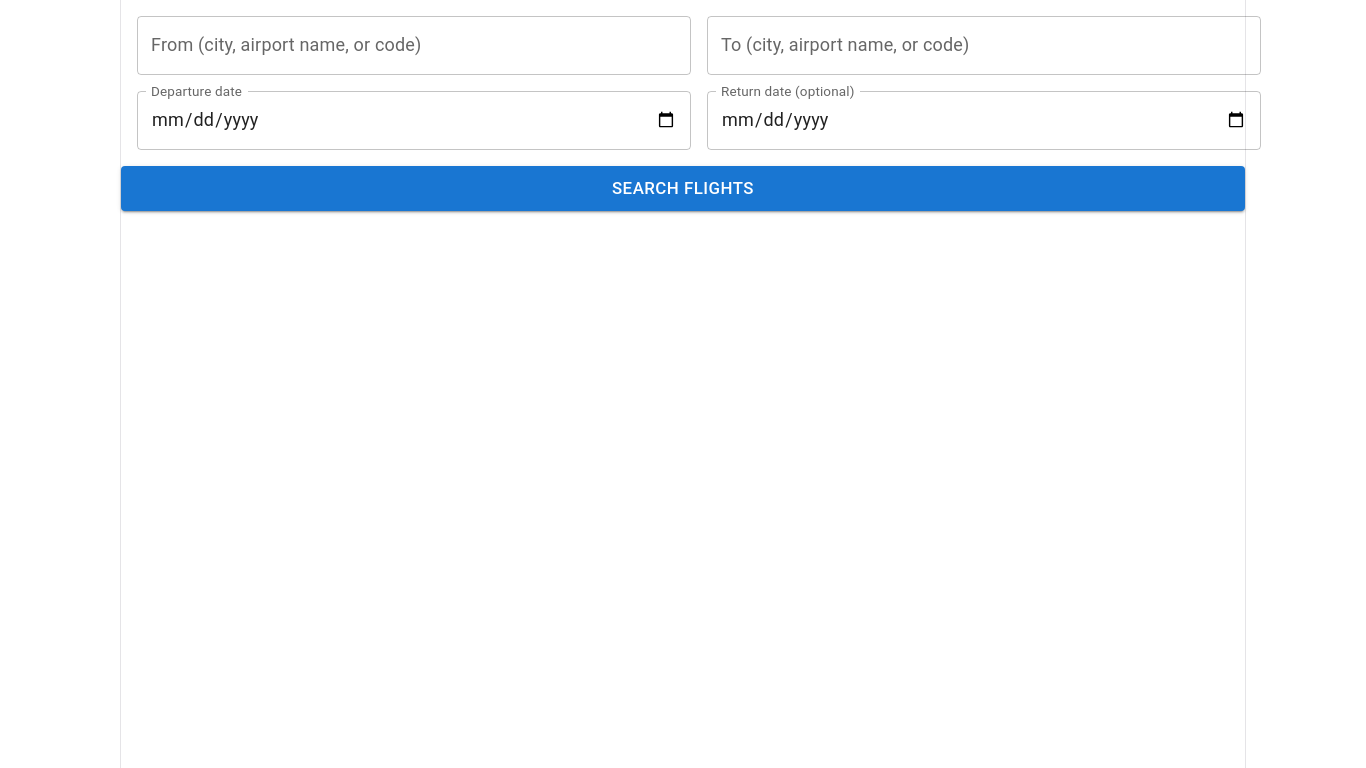
Test: SearchForm › rejects when source and destination are the same
Type "JFK" into the field labelled "From (city, airport name, or code)".
click(414, 45); type("JFK")  # box [137,16,691,75]
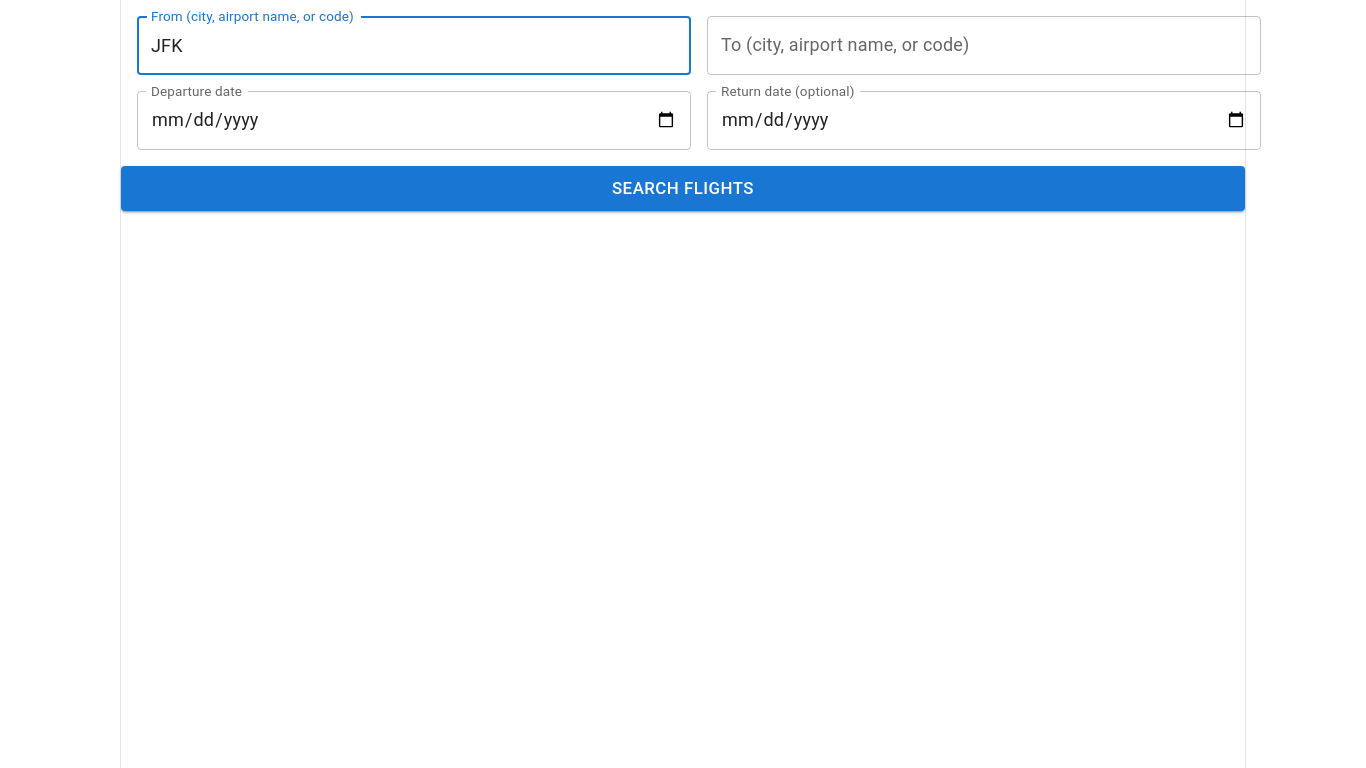
Type "JFK" into the field labelled "To (city, airport name, or code)".
click(984, 45); type("JFK")  # box [707,16,1261,75]
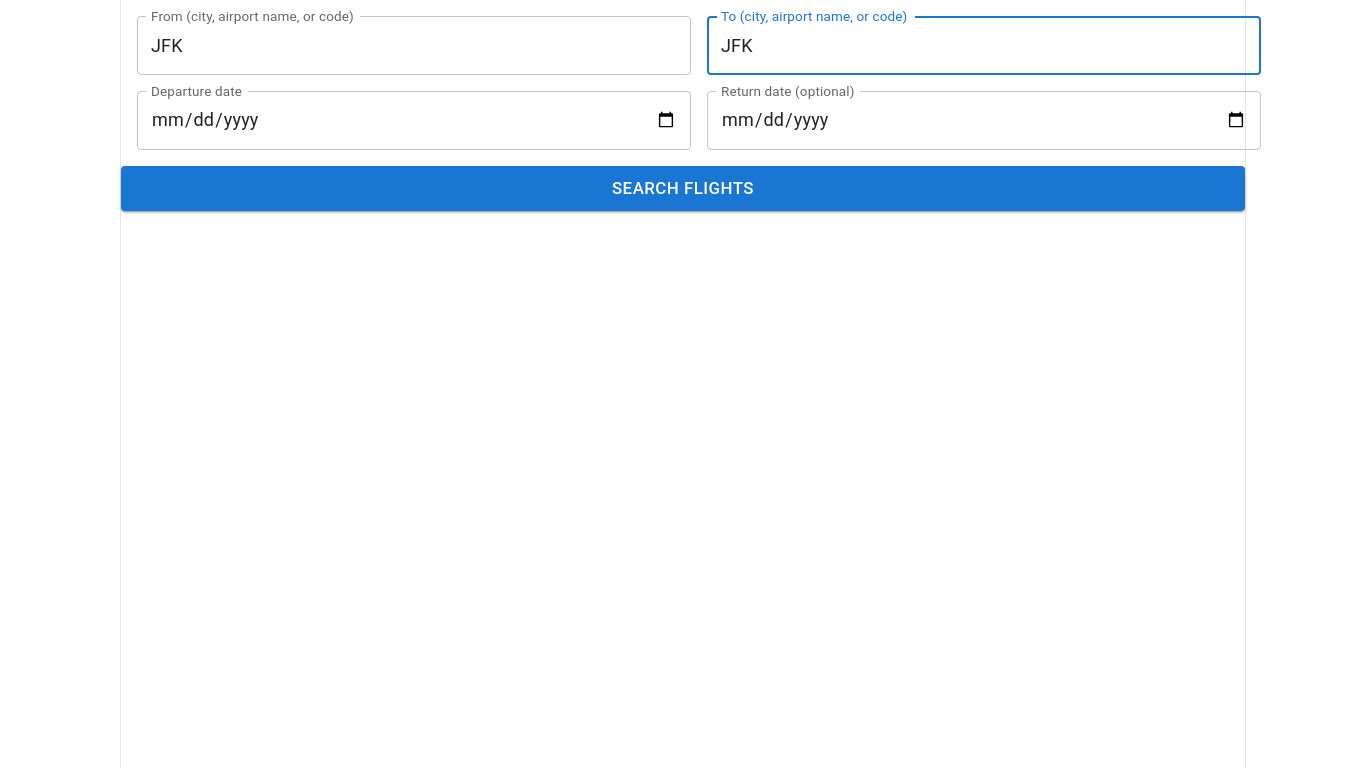
Type "2026-09-10" into the date field labelled "Departure date".
click(414, 120); type("2026-09-10")  # box [137,91,691,150]
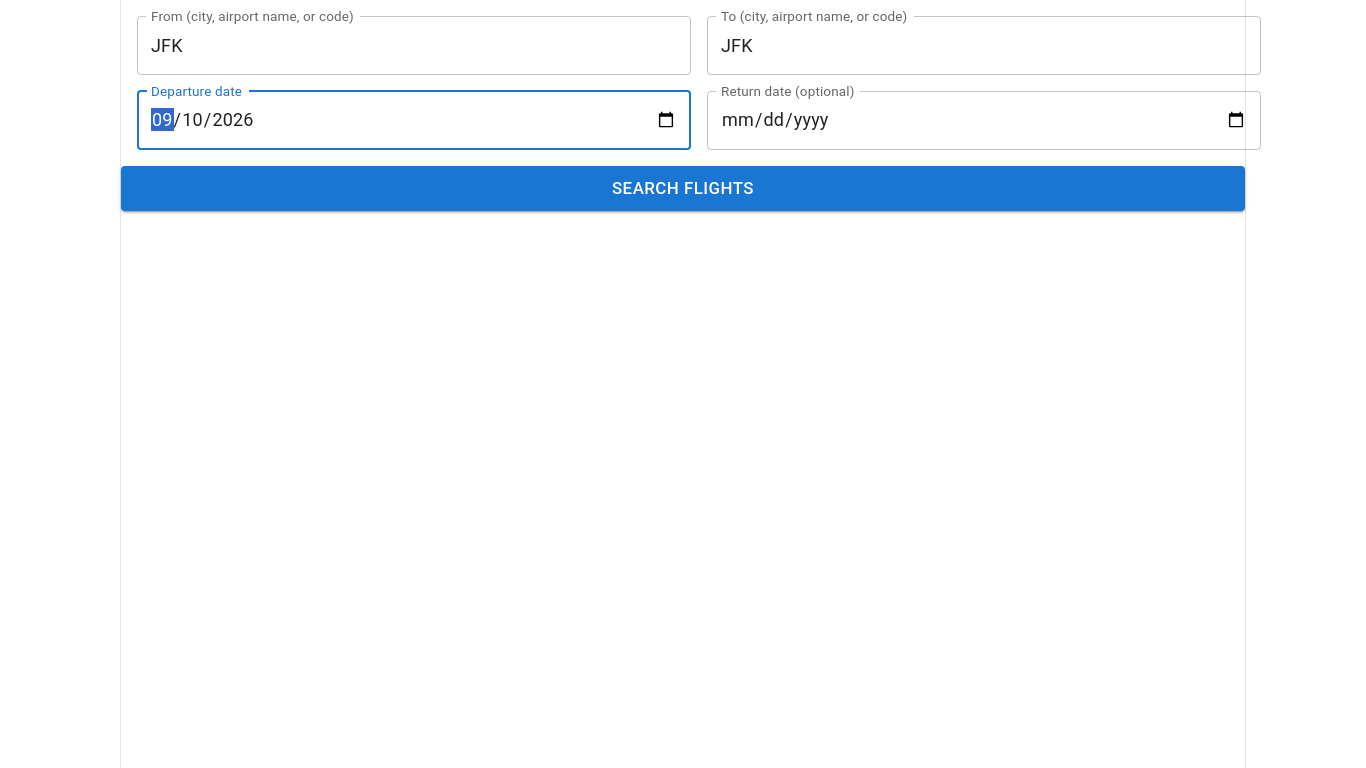
Click the button "Search Flights".
click(683, 189)  # box [121,166,1245,211]
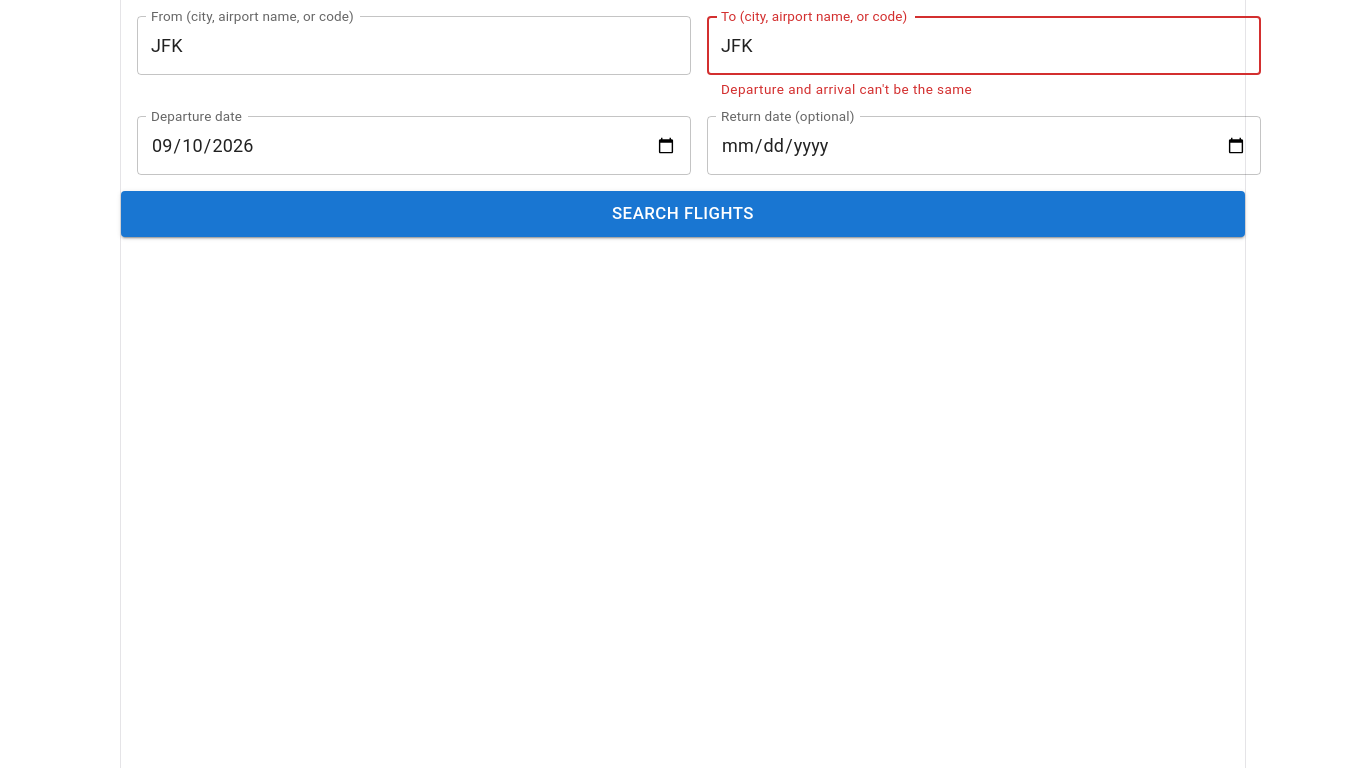
Expected: the text "Departure and arrival can't be the same" is shown, [721,81,972,97]
